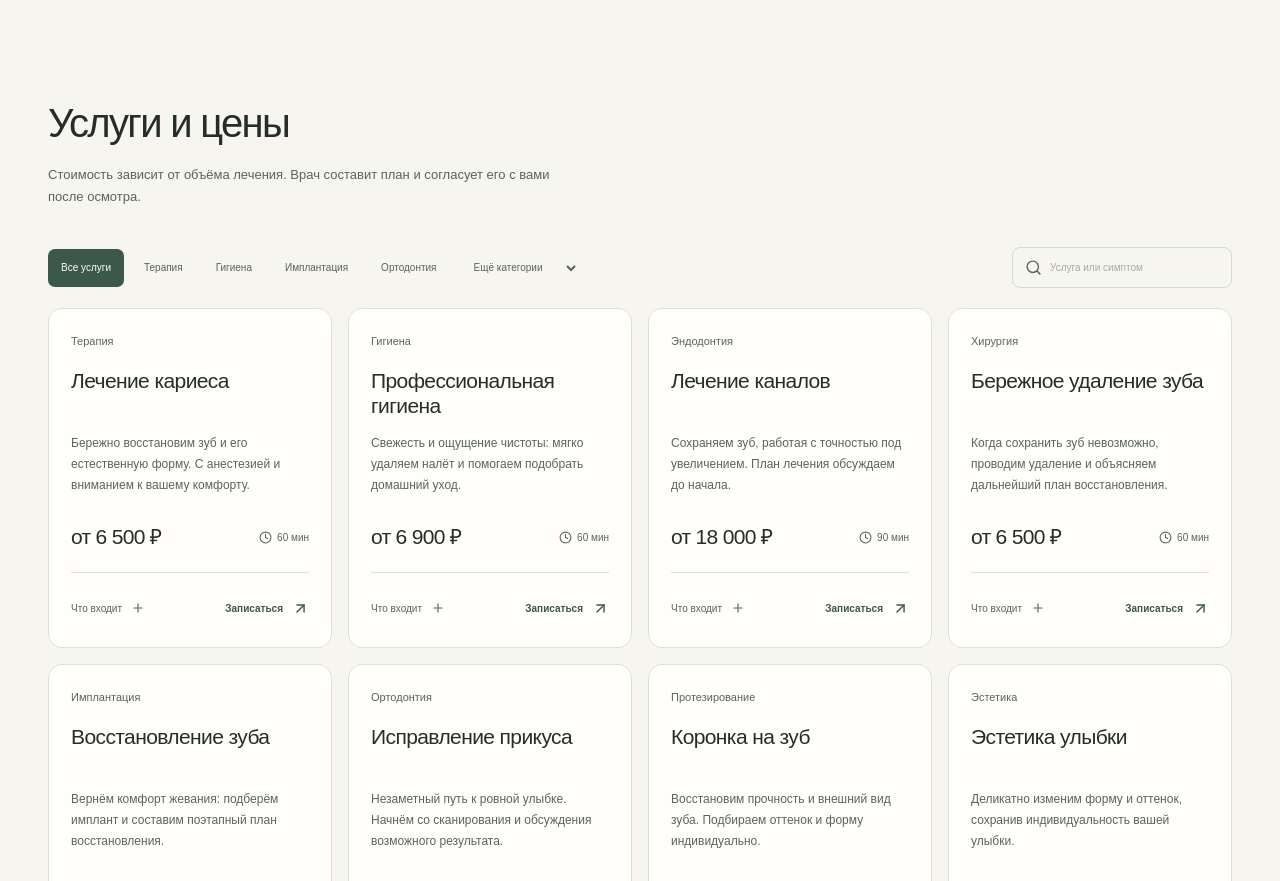
Test: shows service cards without ordinal numbers and opens treatment details
The image size is (1280, 881).
Click the button "Что входит" below "Лечение кариеса": click(108, 608) [71,587,145,629]
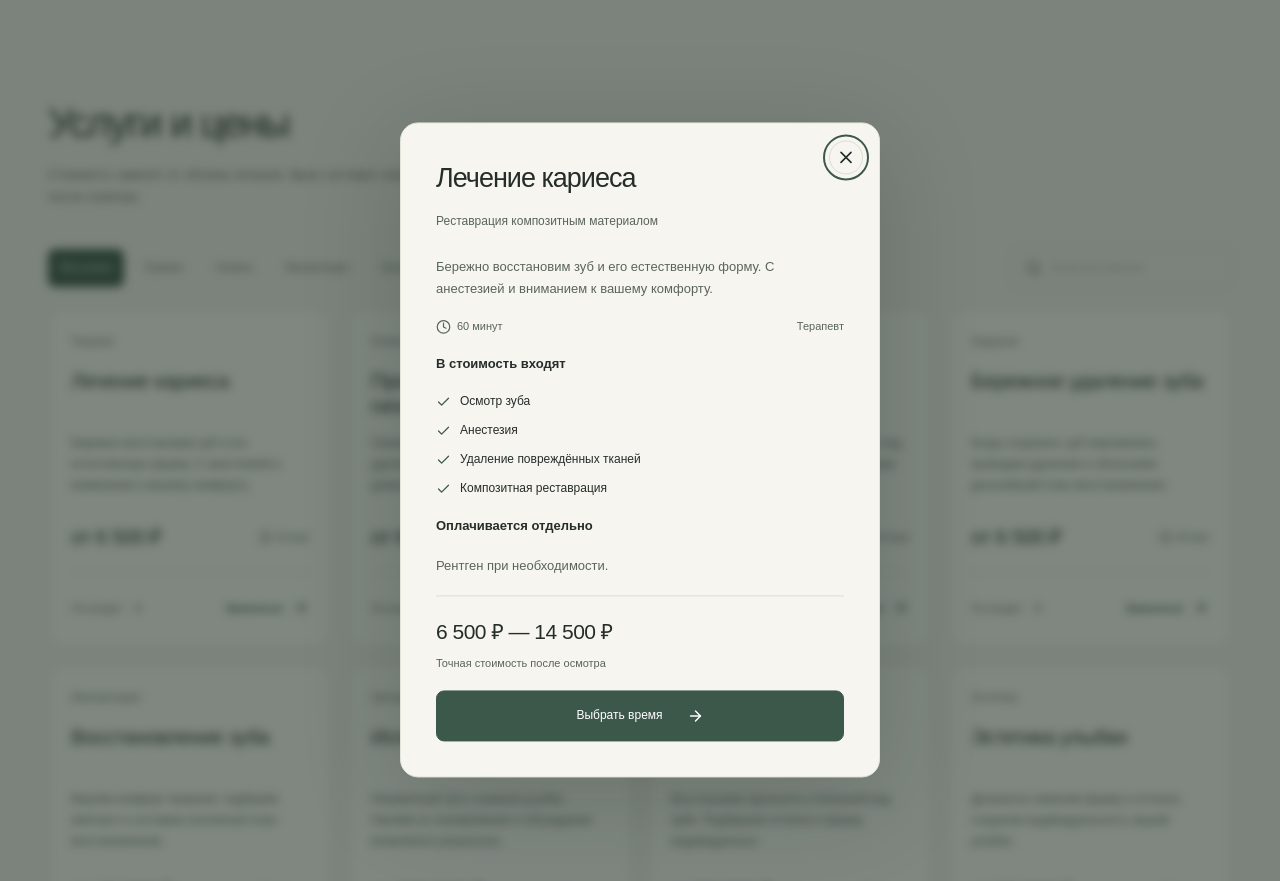
Now the dialog shows "Анестезия", box [460,424,518,438]
